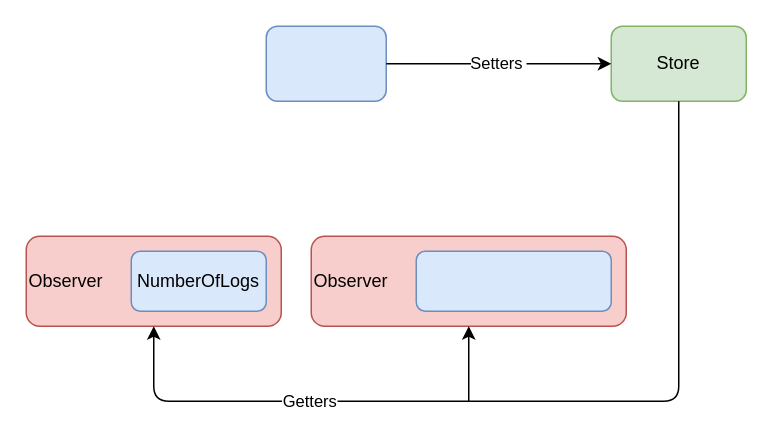
The diagram is 773 pixels wide and 440 high, and some of its shapes have lost their labels. Here are the shapes that lost their labels. From the top down, the box of each, then its label:
(265, 25, 386, 101): App
(415, 250, 611, 311): NumberOfLogsAndData
